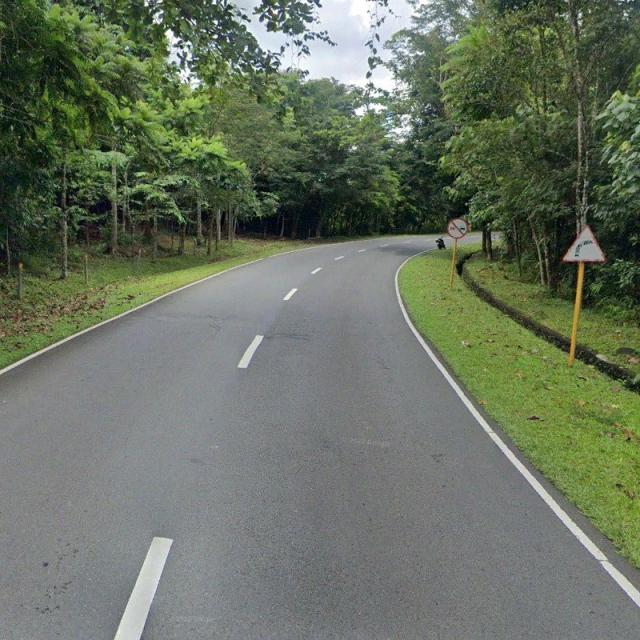warn_right_curve: (562, 225, 606, 262)
